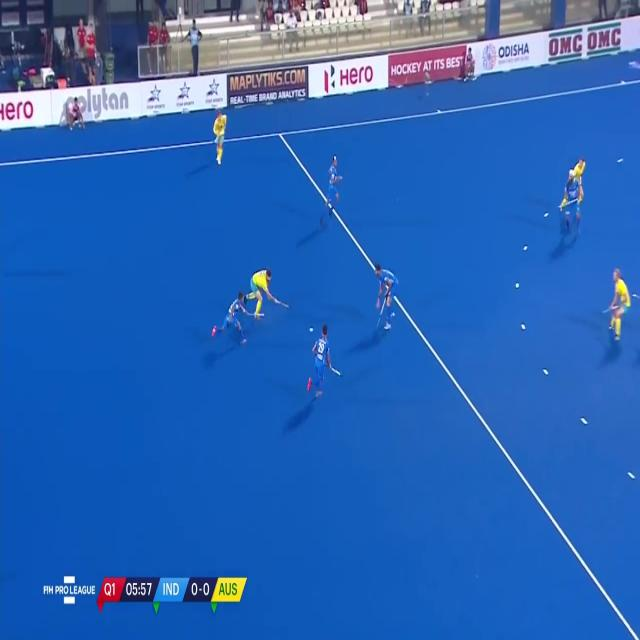ball: (307, 324, 315, 336)
